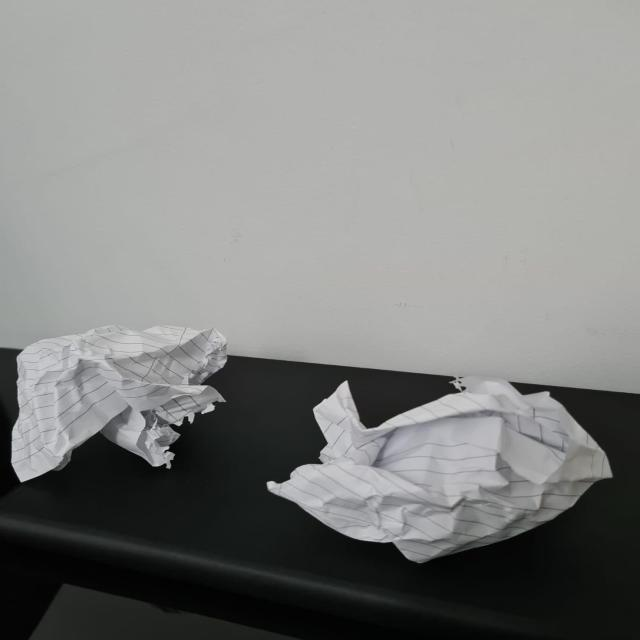kertas: (258, 372, 605, 554), (0, 325, 236, 484)
